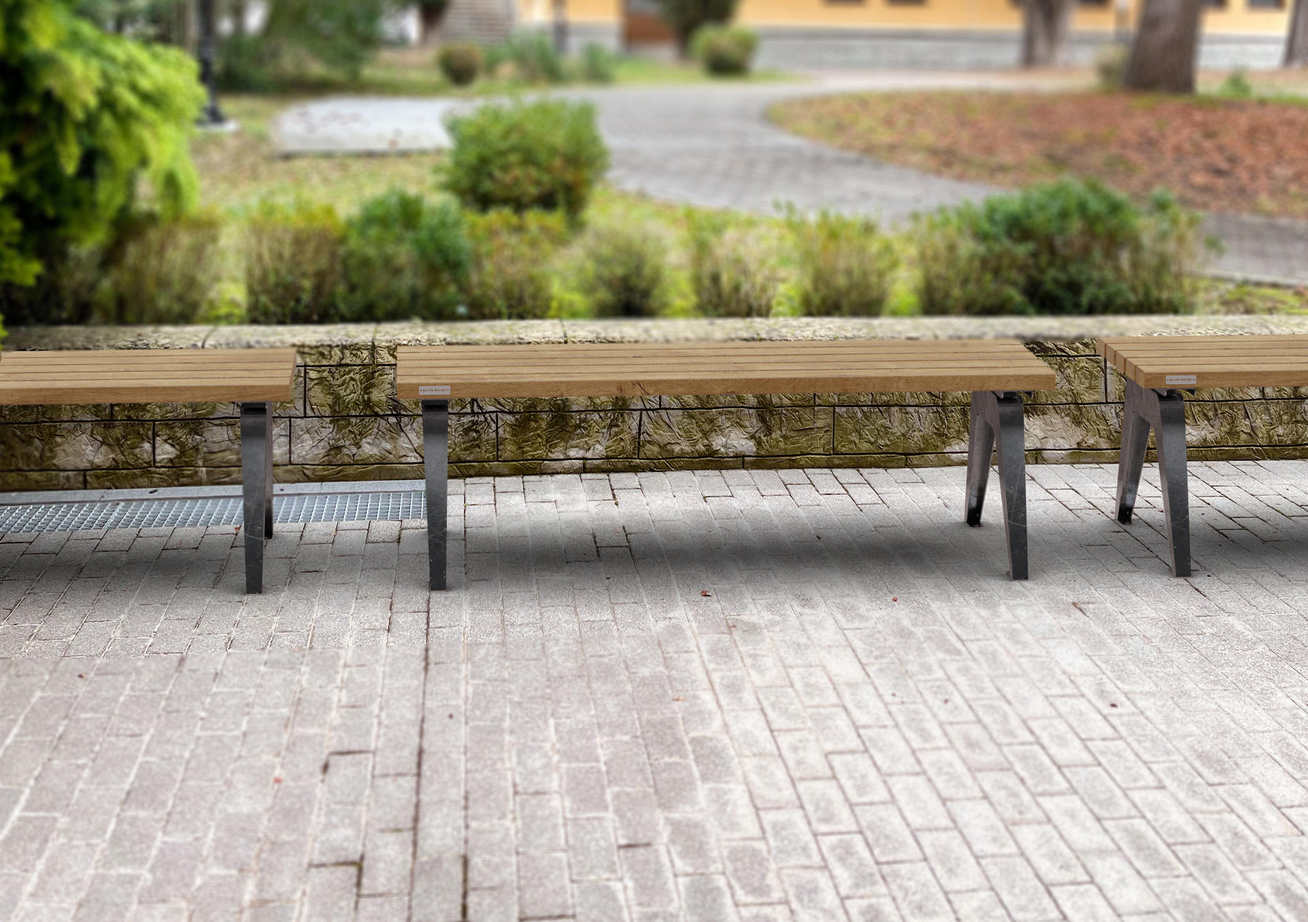Chair: (380, 321, 1046, 597), (1, 327, 328, 604), (1091, 322, 1298, 591)
